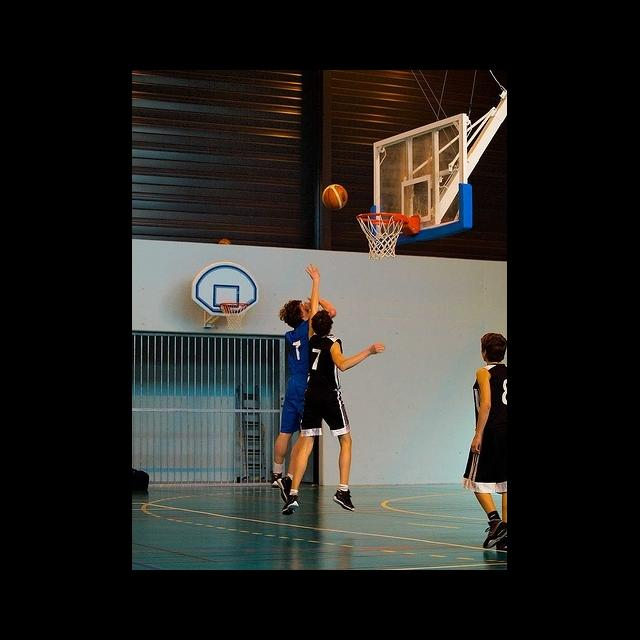basketball: (322, 182, 348, 210), (218, 238, 233, 248)
hoop: (358, 212, 404, 257), (221, 301, 249, 330)
